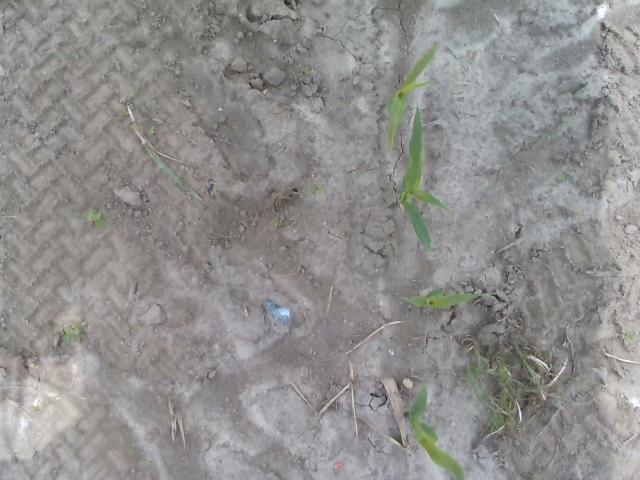Maize: (398, 103, 454, 253), (404, 383, 466, 480), (387, 46, 438, 148), (401, 288, 496, 311)
Weeds: (113, 111, 204, 202), (86, 208, 108, 228), (62, 322, 81, 342), (312, 182, 326, 194), (623, 335, 640, 344), (64, 52, 80, 61), (559, 175, 569, 182), (271, 218, 280, 225), (213, 185, 221, 191), (32, 406, 38, 412)
